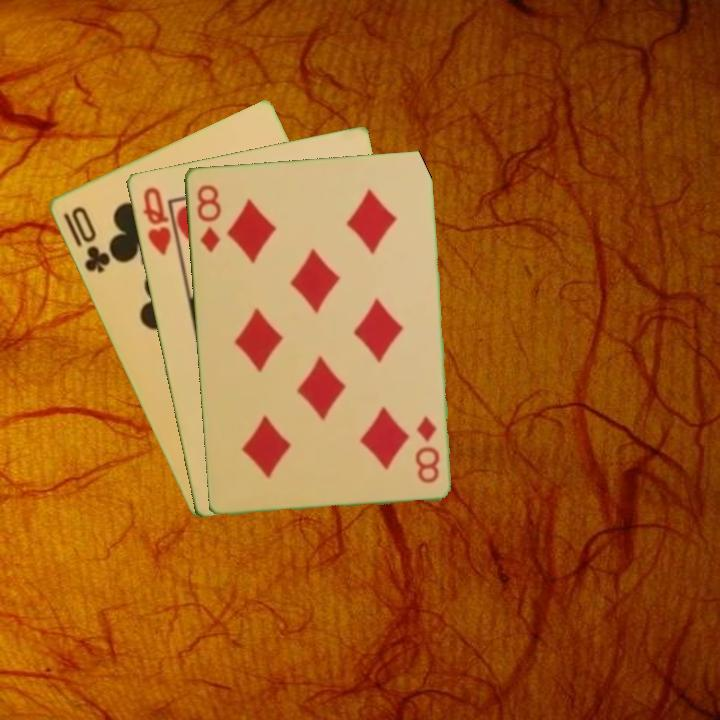10c: (59, 202, 113, 276)
8d: (193, 181, 223, 255), (412, 412, 442, 486)
Qh: (139, 183, 174, 258)
